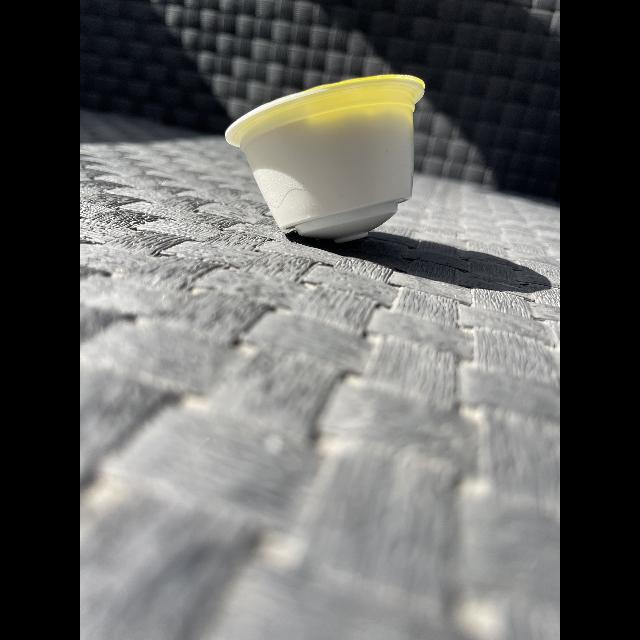intact_capsule: (211, 64, 434, 258)
